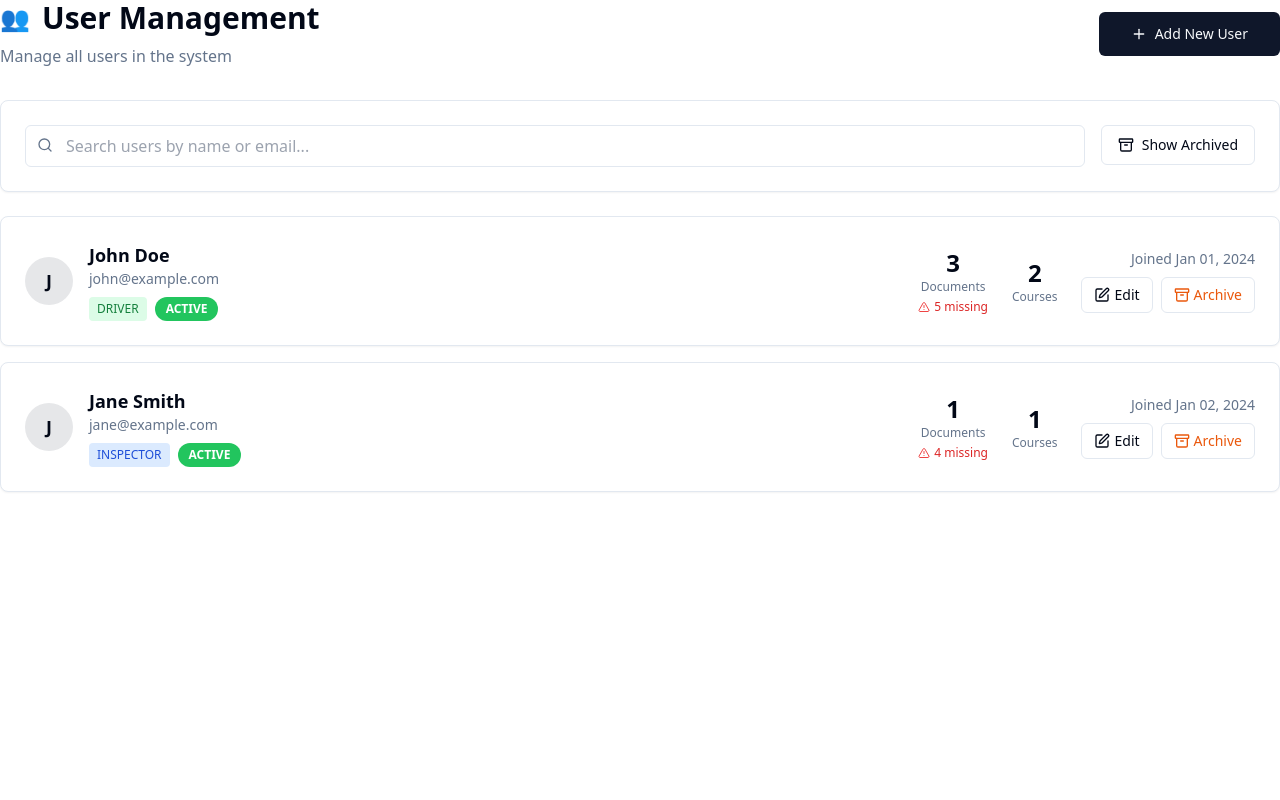
UserManagementClient › opens edit user modal when Edit button is clicked
Click the button "Edit" below "Jan 01, 2024". click: (1117, 295)
box: [1082,277,1153,313]
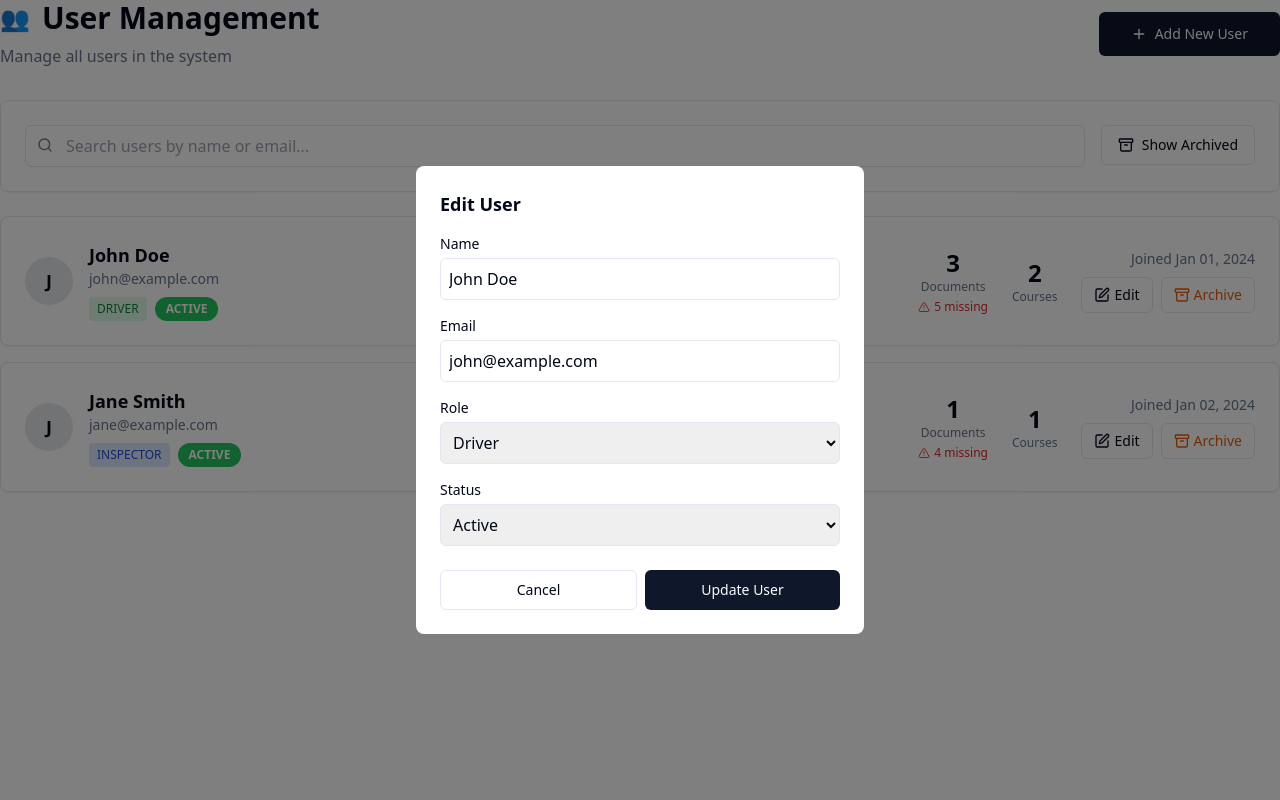
Expected: the heading "Edit User" is shown, [440,192,521,216]
Expected: the field showing "John Doe" below "Name" is shown, [440,258,840,300]
Expected: the field showing "john@example.com" below "Email" is shown, [440,340,840,382]
